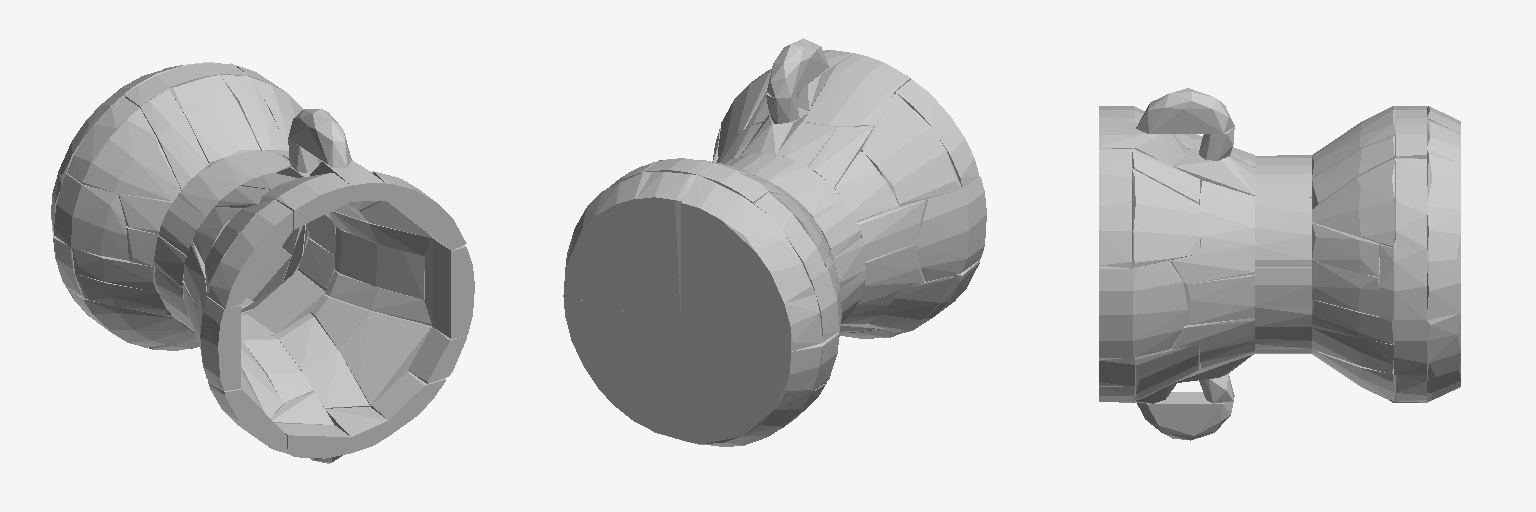
File: jug_vhacd.obj
3 renders of one model, left to right at view 1: azimuth 30°, elevation 25°; view 2: azimuth 150°, elevation 25°; view 3: azimuth 270°, elevation 25°, orthographic.
Parts seen in each view (by area): view 1: convex_76, convex_83, convex_42, convex_26, convex_24, convex_32, convex_34, convex_56, convex_19, convex_38, convex_29, convex_64 (+28 smaller); view 2: convex_0, convex_9, convex_11, convex_7, convex_10, convex_8, convex_49, convex_19, convex_29, convex_6, convex_26, convex_25 (+24 smaller); view 3: convex_34, convex_11, convex_33, convex_82, convex_5, convex_39, convex_43, convex_61, convex_37, convex_31, convex_56, convex_81 (+28 smaller).
Part boxes in pixels (x1,y1,x2,y2): convex_76: (82, 108, 180, 201); convex_83: (338, 311, 431, 406); convex_42: (54, 173, 128, 260); convex_26: (208, 199, 292, 308); convex_24: (169, 75, 260, 166); convex_32: (274, 313, 369, 408); convex_34: (424, 239, 474, 338); convex_56: (335, 227, 424, 299); convex_19: (197, 280, 240, 390); convex_38: (140, 89, 208, 190); convex_29: (258, 173, 350, 229); convex_64: (82, 298, 187, 347); convex_0: (687, 326, 822, 446); convex_9: (681, 175, 815, 302); convex_11: (563, 172, 651, 313); convex_7: (563, 296, 652, 430); convex_10: (636, 171, 697, 324); convex_8: (681, 278, 822, 351); convex_49: (862, 93, 961, 205); convex_19: (917, 177, 986, 281); convex_29: (803, 53, 910, 126); convex_6: (653, 318, 702, 444); convex_26: (895, 79, 979, 188); convex_25: (857, 199, 927, 260); convex_34: (1099, 261, 1187, 357); convex_11: (1427, 149, 1460, 319); convex_33: (1132, 168, 1199, 268); convex_82: (1312, 158, 1395, 247); convex_5: (1255, 197, 1311, 266); convex_39: (1099, 148, 1131, 268); convex_43: (1380, 240, 1426, 319); convex_61: (1200, 181, 1254, 253); convex_37: (1136, 88, 1234, 133); convex_31: (1137, 392, 1233, 440); convex_56: (1184, 274, 1254, 325); convex_81: (1396, 158, 1426, 247).
Size of the model in its own units: 90.47 by 117 by 110.